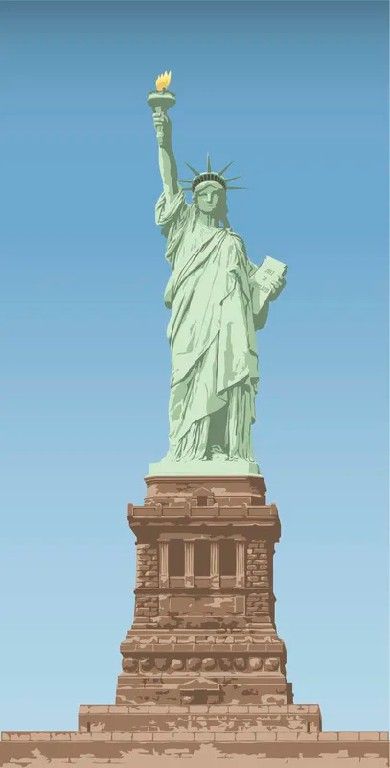SL: (115, 69, 291, 704)
